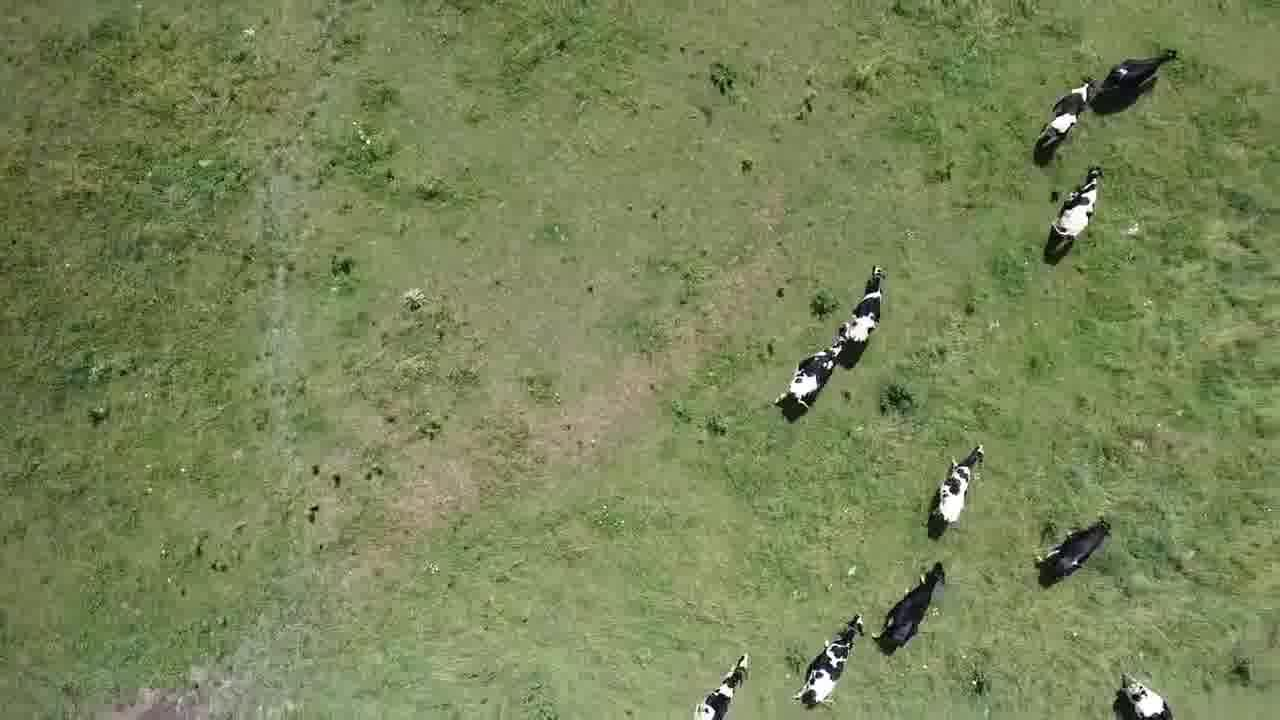cow: (789, 609, 867, 712), (870, 559, 951, 657), (1039, 164, 1109, 268), (772, 334, 849, 423), (1031, 69, 1095, 161), (928, 438, 985, 537), (1034, 516, 1110, 588), (1099, 46, 1181, 105), (839, 264, 891, 355), (692, 649, 754, 720), (1116, 671, 1178, 720)
